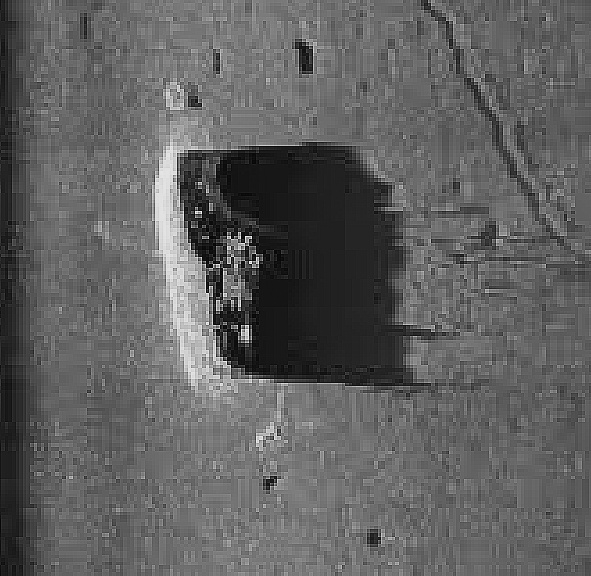ship: (149, 142, 267, 394)
